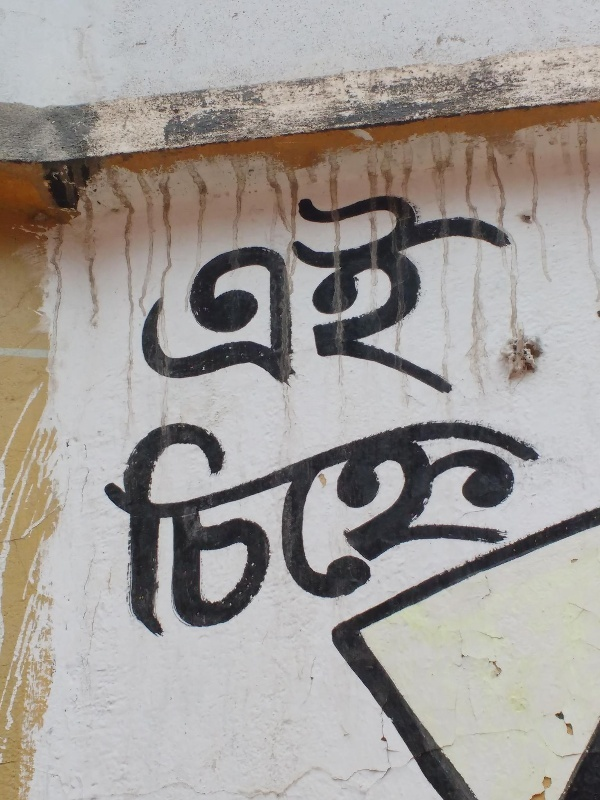text: (97, 381, 112, 662), (113, 381, 128, 662), (129, 381, 144, 662), (145, 381, 160, 662), (161, 381, 176, 662), (177, 381, 192, 662), (193, 381, 208, 662), (209, 381, 224, 662), (225, 381, 240, 662), (241, 381, 256, 662), (257, 381, 272, 662), (273, 381, 288, 662), (289, 381, 304, 662), (305, 381, 320, 662), (321, 381, 336, 662), (337, 381, 352, 662), (353, 381, 368, 662), (369, 381, 384, 662), (385, 381, 400, 662), (401, 381, 416, 662), (417, 381, 432, 662), (433, 381, 448, 662), (449, 381, 464, 662), (465, 381, 480, 662), (481, 381, 496, 662), (497, 381, 512, 662), (513, 381, 528, 662), (529, 381, 544, 662), (545, 381, 560, 662), (513, 166, 529, 419), (129, 166, 144, 419), (145, 166, 160, 419), (161, 166, 176, 419), (177, 166, 192, 419), (193, 166, 208, 419), (209, 166, 224, 419), (225, 166, 240, 419), (241, 166, 256, 419), (257, 166, 272, 419), (273, 166, 288, 419), (289, 166, 304, 419), (305, 166, 320, 419), (321, 166, 336, 419), (337, 166, 352, 419), (353, 166, 368, 419), (369, 166, 384, 419), (385, 166, 400, 419), (401, 166, 416, 419), (417, 166, 432, 419), (433, 166, 448, 419), (449, 166, 464, 419), (465, 166, 480, 419), (481, 166, 496, 419), (497, 166, 512, 419), (561, 381, 562, 662), (127, 166, 128, 419)
